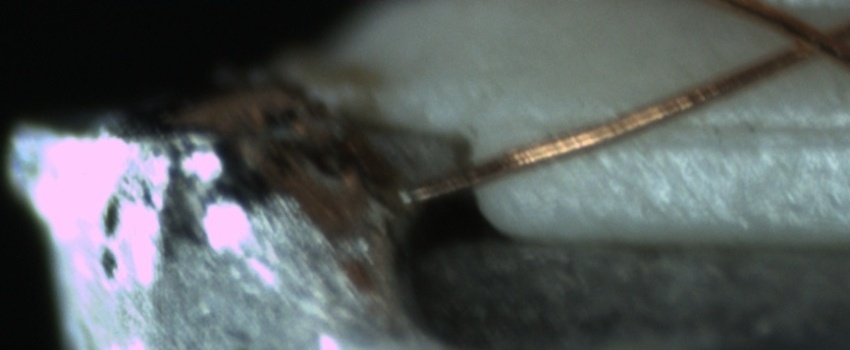CL: (763, 10, 845, 74)
DL: (560, 91, 847, 165)
